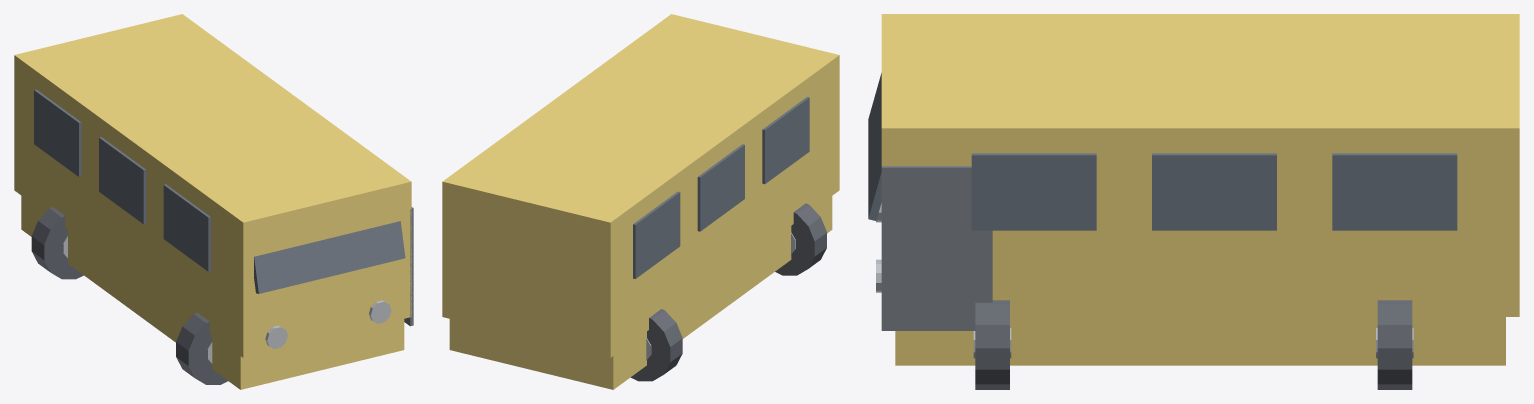
File: bus.glb
3 views of the same model, side by side, from view 1: azimuth 30°, elevation 25°; view 2: azimuth 150°, elevation 25°; view 3: azimuth 270°, elevation 25° (orthographic). The views are drawn at different scales.
Visible parts, largest first — view 1: Bus, WheelRL, WheelFL; view 2: Bus, WheelRL, WheelFL; view 3: Bus, WheelRR, WheelFR.
Part boxes in pixels (x1,y1,x2,y2): Bus: [14, 14, 413, 389]; WheelRL: [31, 207, 83, 279]; WheelFL: [176, 312, 227, 384]; Bus: [442, 14, 839, 389]; WheelRL: [630, 309, 682, 381]; WheelFL: [775, 203, 826, 275]; Bus: [868, 14, 1519, 365]; WheelRR: [1376, 300, 1413, 389]; WheelFR: [973, 300, 1011, 389].
Bounding box in the file's own units: 2.44 × 2.1 × 4.7.
